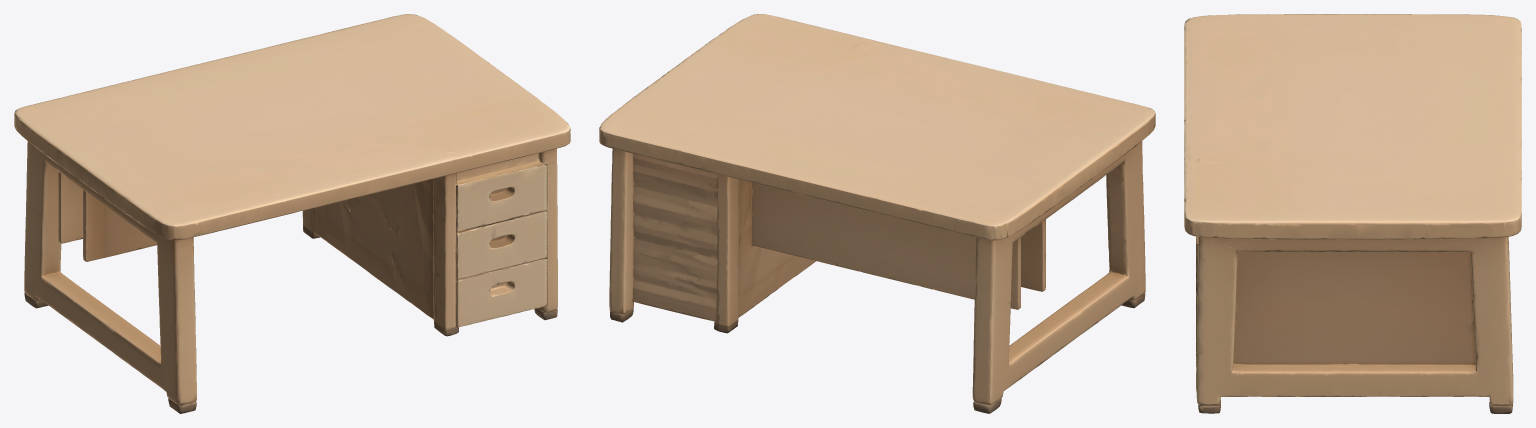
The model's file is desk.glb.
The picture shows the model from 3 angles, left to right: view 1: azimuth 30°, elevation 25°; view 2: azimuth 150°, elevation 25°; view 3: azimuth 270°, elevation 25°; orthographic projection. The views are drawn at different scales.
Visible parts, largest first — view 1: tripo_node_d69da3fe-80cc-4b54-ab73-5d78f42624e0; view 2: tripo_node_d69da3fe-80cc-4b54-ab73-5d78f42624e0; view 3: tripo_node_d69da3fe-80cc-4b54-ab73-5d78f42624e0.
Boxes of the visible parts, left/top/right/bottom form: tripo_node_d69da3fe-80cc-4b54-ab73-5d78f42624e0: left=14, top=14, right=570, bottom=413; tripo_node_d69da3fe-80cc-4b54-ab73-5d78f42624e0: left=599, top=14, right=1155, bottom=413; tripo_node_d69da3fe-80cc-4b54-ab73-5d78f42624e0: left=1184, top=14, right=1521, bottom=413.
Bounding box in the file's own units: 1 × 0.449 × 0.6819.
Materials: 1 (1 with a texture image).
